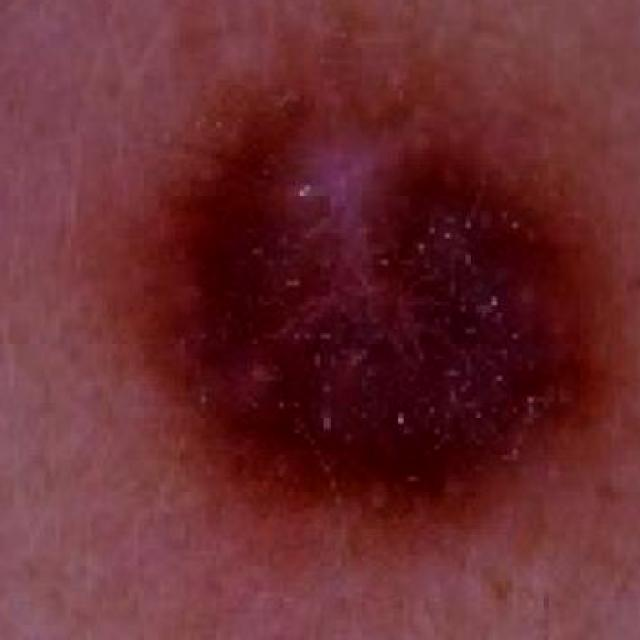DF: (54, 66, 640, 555)
